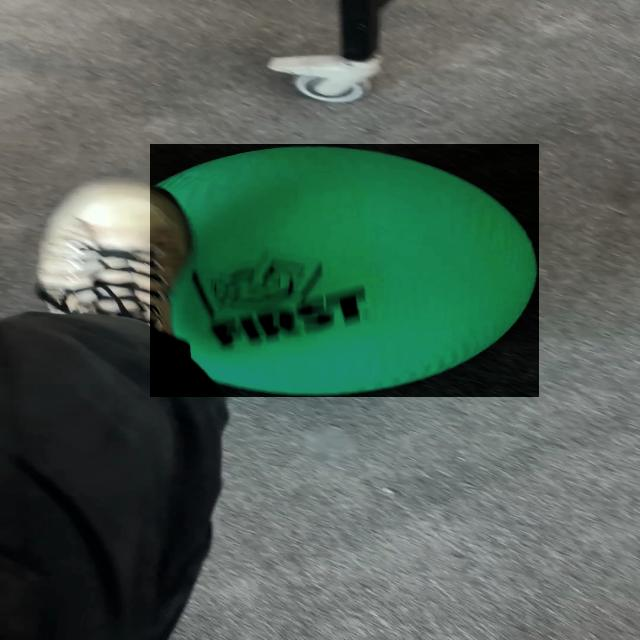Algae: (150, 144, 539, 397)
